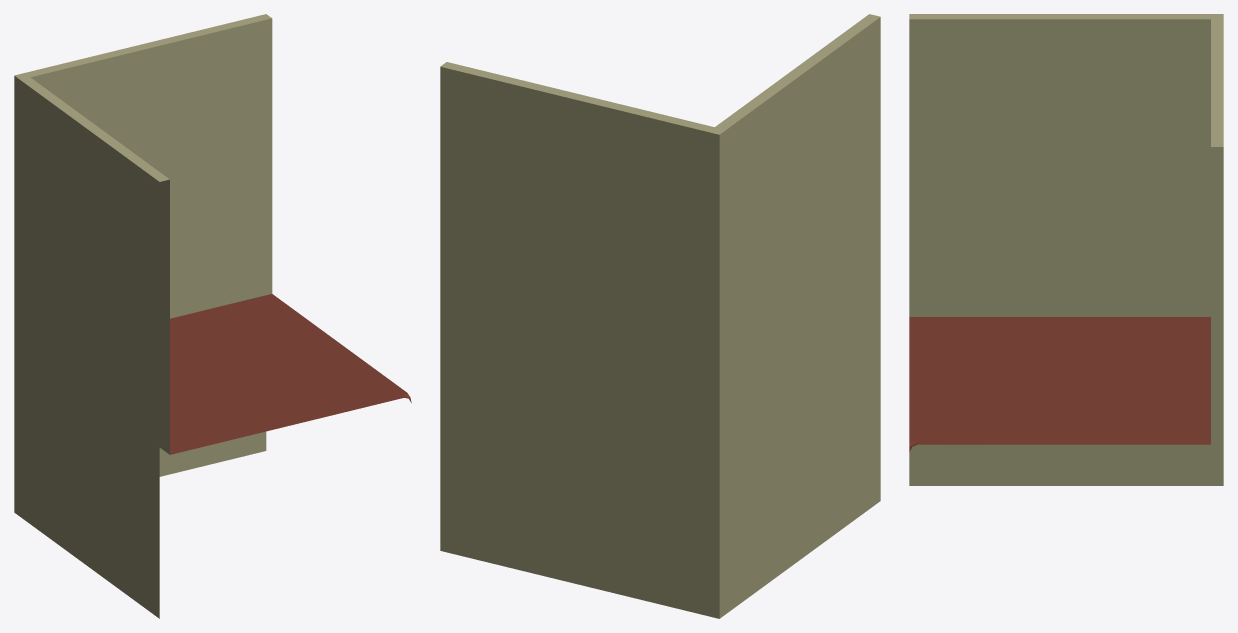
File: CounterSet_Corner_01.fbx
The picture shows the model from 3 angles, left to right: view 1: azimuth 30°, elevation 25°; view 2: azimuth 150°, elevation 25°; view 3: azimuth 270°, elevation 25°; orthographic projection. The views are drawn at different scales.
Visible parts, largest first — view 1: polySurface42; view 2: polySurface42; view 3: polySurface42.
Part boxes in pixels (x1,y1,x2,y2): polySurface42: (14, 14, 411, 618); polySurface42: (440, 14, 880, 618); polySurface42: (909, 14, 1223, 485).
Bounding box in the file's own units: 3507 × 5808 × 3507.
